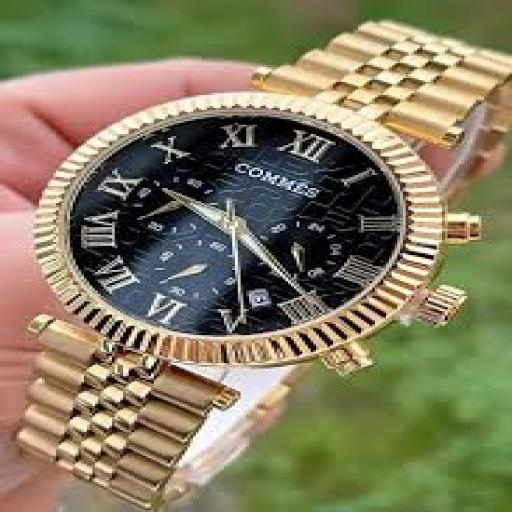KolSaati: (0, 8, 499, 487)
